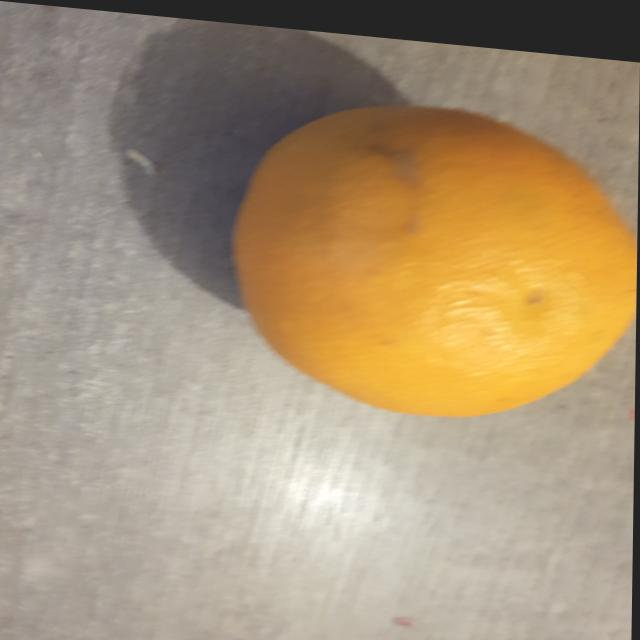Orange: (233, 95, 638, 409)
